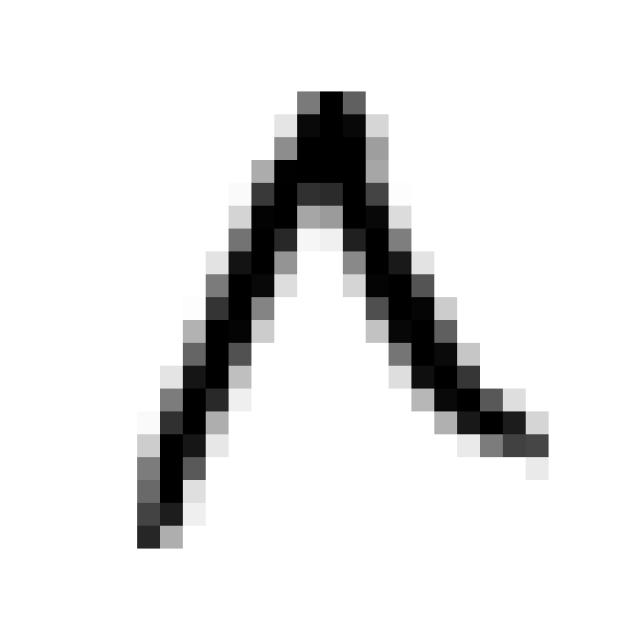8 -eight-: (112, 69, 564, 578)
